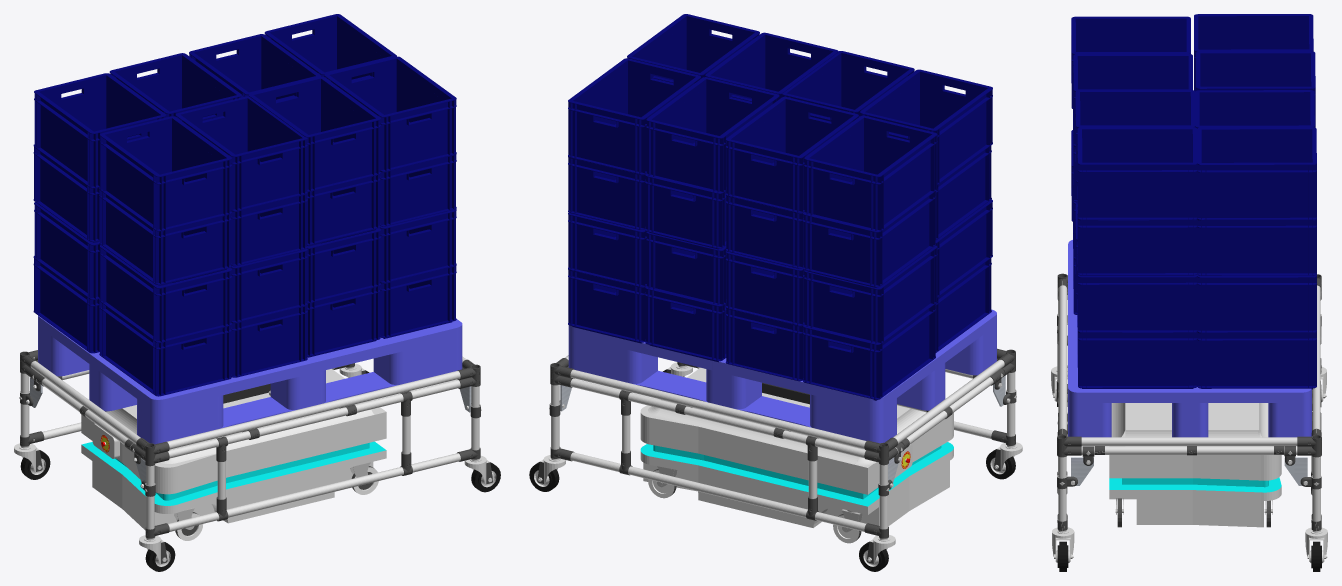
Rendered from 1769654388135-Finished_Good.glb.
3 renders of one model, left to right at view 1: azimuth 30°, elevation 25°; view 2: azimuth 150°, elevation 25°; view 3: azimuth 270°, elevation 25°, orthographic.
Parts seen in each view (by area): view 1: _G-Object.032 (Loose Mesh), _C-81c6bcc7-17c7-4c85-8331-3434710bf328 (Loose Mesh), G-Object.219, G-Object.212, G-Object.269, G-Object.276, G-Object.191, G-Object.198, G-Object.177, G-Object.390, G-Object.184, G-Object.205 (+36 smaller); view 2: _G-Object.032 (Loose Mesh), _C-81c6bcc7-17c7-4c85-8331-3434710bf328 (Loose Mesh), G-Object.390, G-Object.333, G-Object.326, G-Object.383, G-Object.369, G-Object.348, G-Object.362, G-Object.219, G-Object.291, G-Object.312 (+38 smaller); view 3: _G-Object.032 (Loose Mesh), _C-81c6bcc7-17c7-4c85-8331-3434710bf328 (Loose Mesh), G-Object.269, G-Object.326, G-Object.227, G-Object.262, G-Object.284, G-Object.319, G-Object.241, G-Object.298, G-Object.212, G-Object.219 (+51 smaller).
Boxes of the visible parts, box(x1,y1,x2,y2) form: _G-Object.032 (Loose Mesh): box(81, 369, 386, 530); _C-81c6bcc7-17c7-4c85-8331-3434710bf328 (Loose Mesh): box(38, 315, 462, 444); G-Object.219: box(100, 126, 231, 230); G-Object.212: box(189, 106, 307, 210); G-Object.269: box(338, 66, 455, 170); G-Object.276: box(262, 86, 380, 190); G-Object.191: box(100, 255, 231, 341); G-Object.198: box(100, 197, 230, 283); G-Object.177: box(100, 309, 230, 395); G-Object.390: box(34, 83, 152, 187); G-Object.184: box(231, 313, 307, 376); G-Object.205: box(231, 202, 307, 265); _G-Object.032 (Loose Mesh): box(640, 367, 953, 527); _C-81c6bcc7-17c7-4c85-8331-3434710bf328 (Loose Mesh): box(568, 309, 996, 443); G-Object.390: box(804, 125, 936, 230); G-Object.333: box(647, 87, 766, 192); G-Object.326: box(568, 68, 687, 173); G-Object.383: box(726, 107, 845, 212); G-Object.369: box(803, 198, 935, 286); G-Object.348: box(803, 311, 935, 398); G-Object.362: box(804, 255, 936, 343); G-Object.219: box(873, 79, 992, 184); G-Object.291: box(645, 296, 726, 360); G-Object.312: box(645, 184, 726, 247); _G-Object.032 (Loose Mesh): box(1109, 403, 1281, 527); _C-81c6bcc7-17c7-4c85-8331-3434710bf328 (Loose Mesh): box(1068, 240, 1311, 437); G-Object.269: box(1077, 137, 1197, 219); G-Object.326: box(1197, 137, 1316, 219); G-Object.227: box(1077, 265, 1197, 331); G-Object.262: box(1077, 207, 1197, 274); G-Object.284: box(1197, 284, 1316, 332); G-Object.319: box(1197, 227, 1316, 275); G-Object.241: box(1077, 320, 1197, 387); G-Object.298: box(1197, 339, 1316, 387); G-Object.212: box(1073, 63, 1188, 144); G-Object.219: box(1071, 26, 1186, 107).
Bounding box in the file's own units: 1.38 × 1.44 × 0.9125.
Materials: 23 (3 with a texture image).
